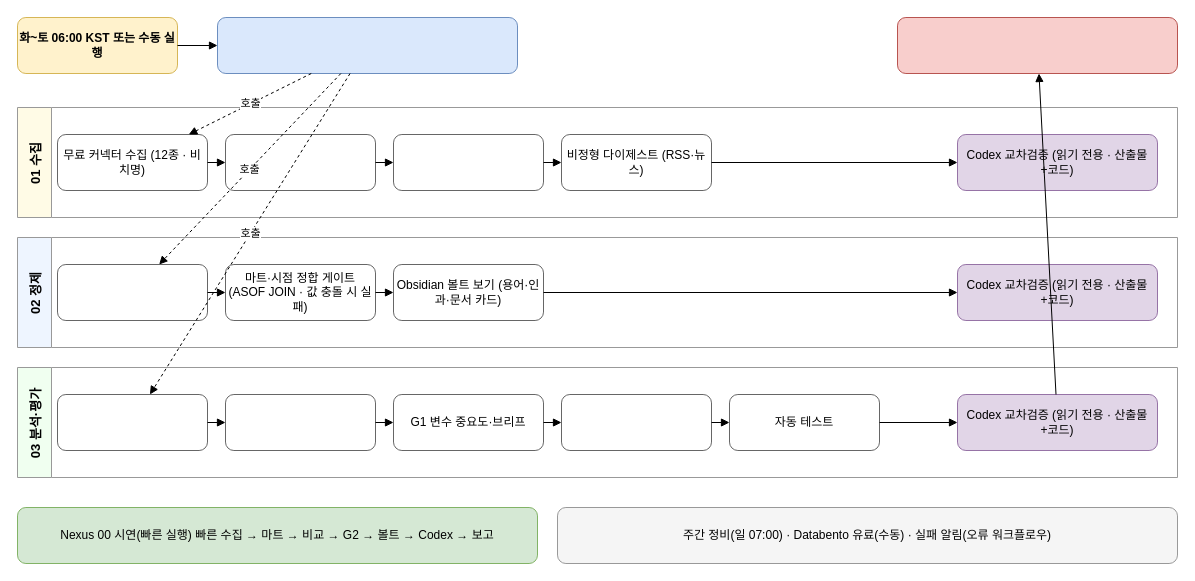
The diagram is 1195 pixels wide and 581 high, and some of its shapes have lost their labels. Each missing label, with the centre of its shape:
"Codex 웹 수집 (계약 검증)" goes at point 468,162.
"G2 화면 (해상 경로·범위)" goes at point 636,422.
"Nexus 04 통합 파이프라인 (Execute Workflow로 01→02→03 호출)" goes at point 367,45.
"TE 시세 갱신" goes at point 300,162.
"기준선 성적표" goes at point 300,422.
"수동 업로드 파서" goes at point 132,292.
"실행 보고(최종 산출물) reports/ops/pipeline_run_latest.html" goes at point 1037,45.
"참고 범위 방식 5종 walk-forward 비교" goes at point 132,422.
